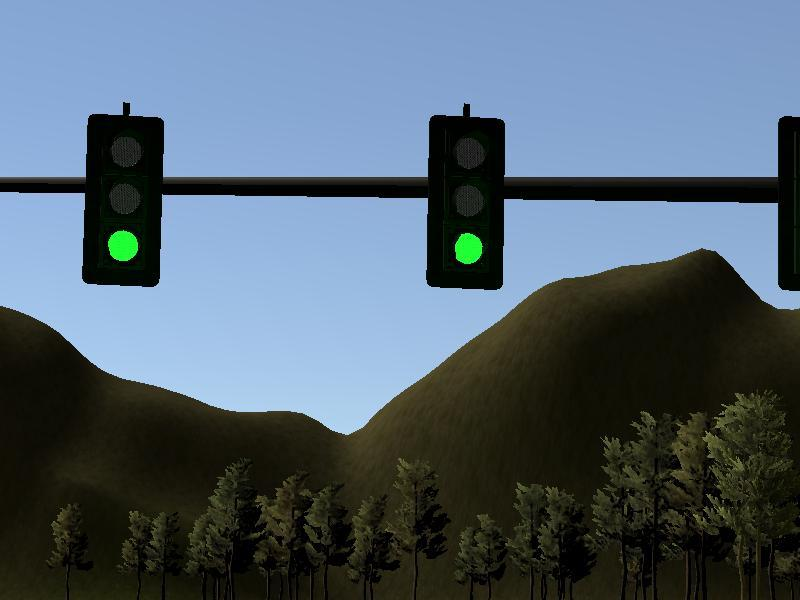Green: (432, 114, 500, 287), (90, 115, 159, 285)
